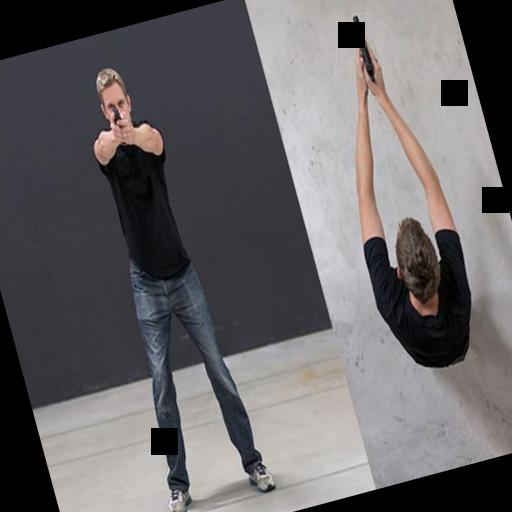Handgun: (338, 6, 382, 85), (102, 100, 126, 148)
